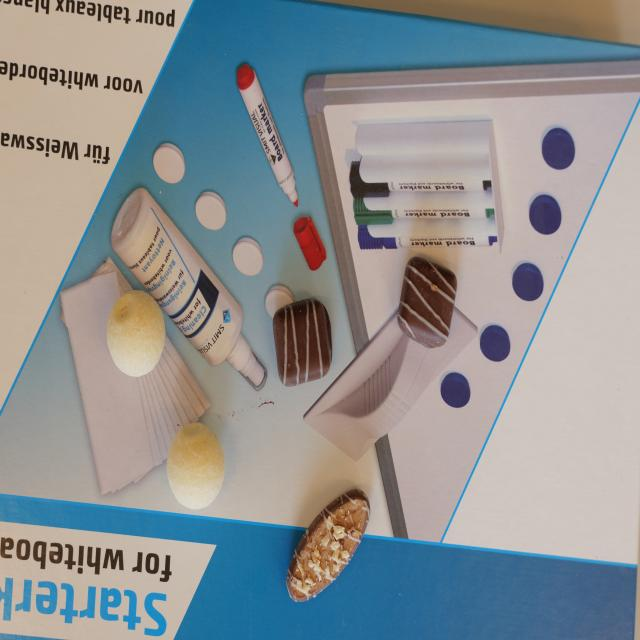Amandina: (288, 487, 370, 605)
Comtesse: (107, 291, 166, 377), (168, 422, 224, 508)
Stracciatella: (398, 256, 457, 350), (273, 297, 333, 387)
